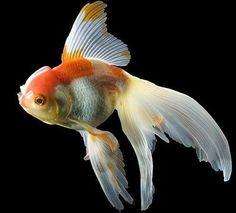goldfish: (15, 18, 225, 186)
